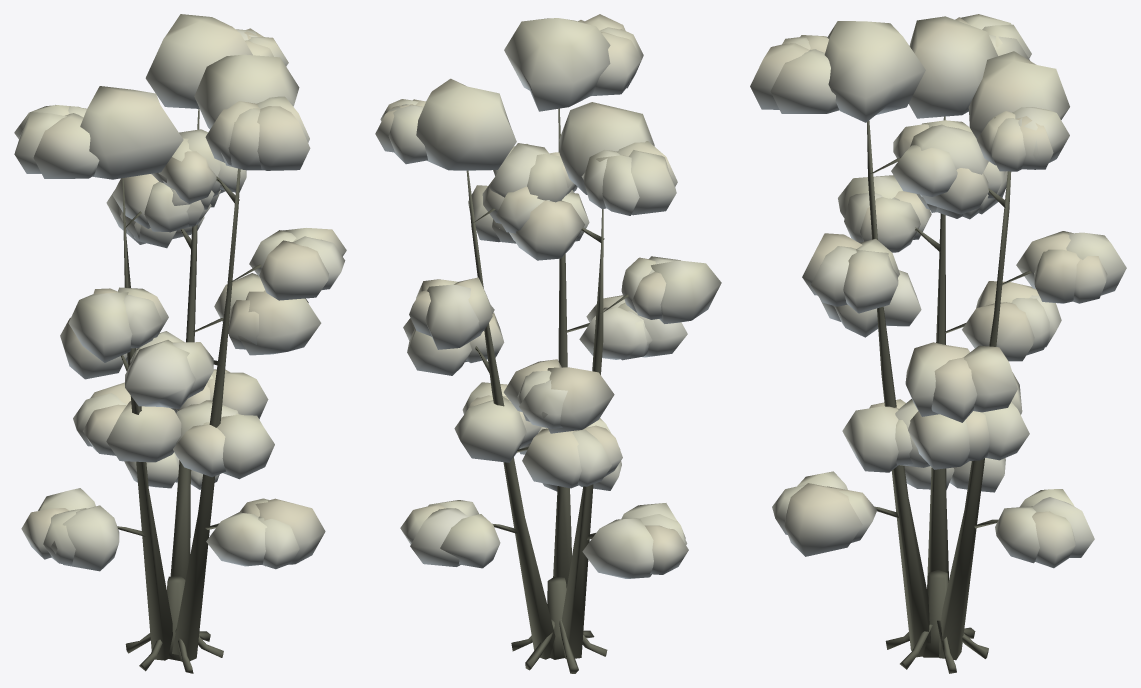
3 views of the same model, side by side, from view 1: azimuth 30°, elevation 25°; view 2: azimuth 150°, elevation 25°; view 3: azimuth 270°, elevation 25° (orthographic). The views are drawn at different scales.
Parts seen in each view (by area): view 1: crown, trunk; view 2: crown, trunk; view 3: crown, trunk.
Part boxes in pixels (<box>): crown: <box>14,14,346,571</box>; trunk: <box>117,109,261,673</box>; crown: <box>375,14,721,578</box>; trunk: <box>466,108,628,673</box>; crown: <box>750,14,1126,568</box>; trunk: <box>867,116,1031,673</box>.
Bounding box in the file's own units: 5.91 × 12.17 × 6.38.
